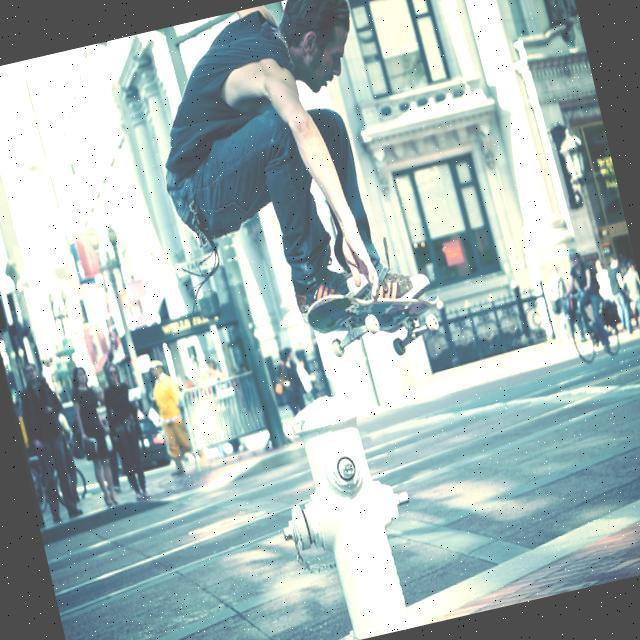fire_hydrant: (250, 381, 437, 640)
